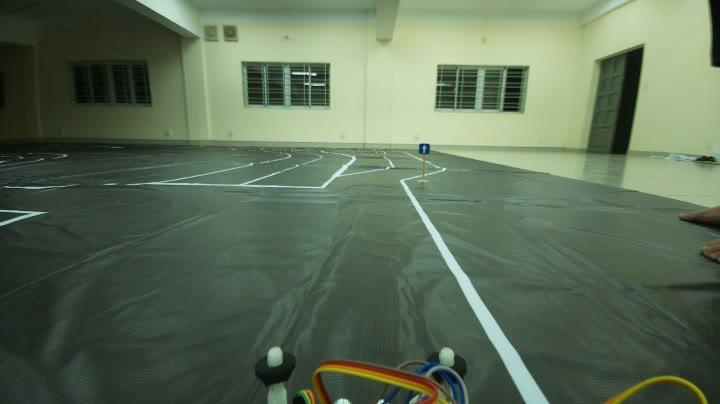onewayroad: (418, 141, 434, 157)
